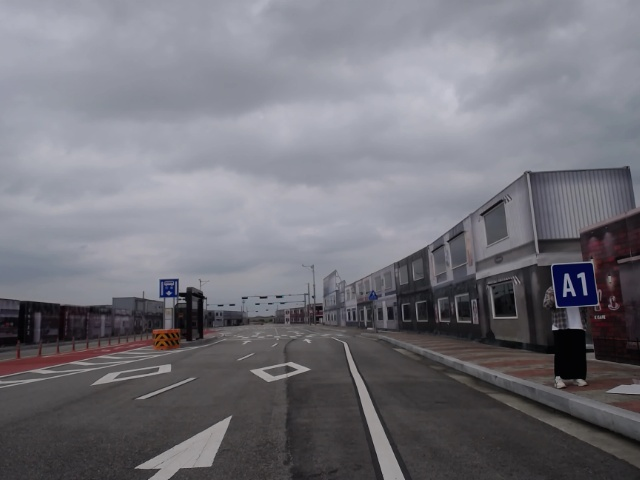delivery_a1: (552, 261, 599, 308)
